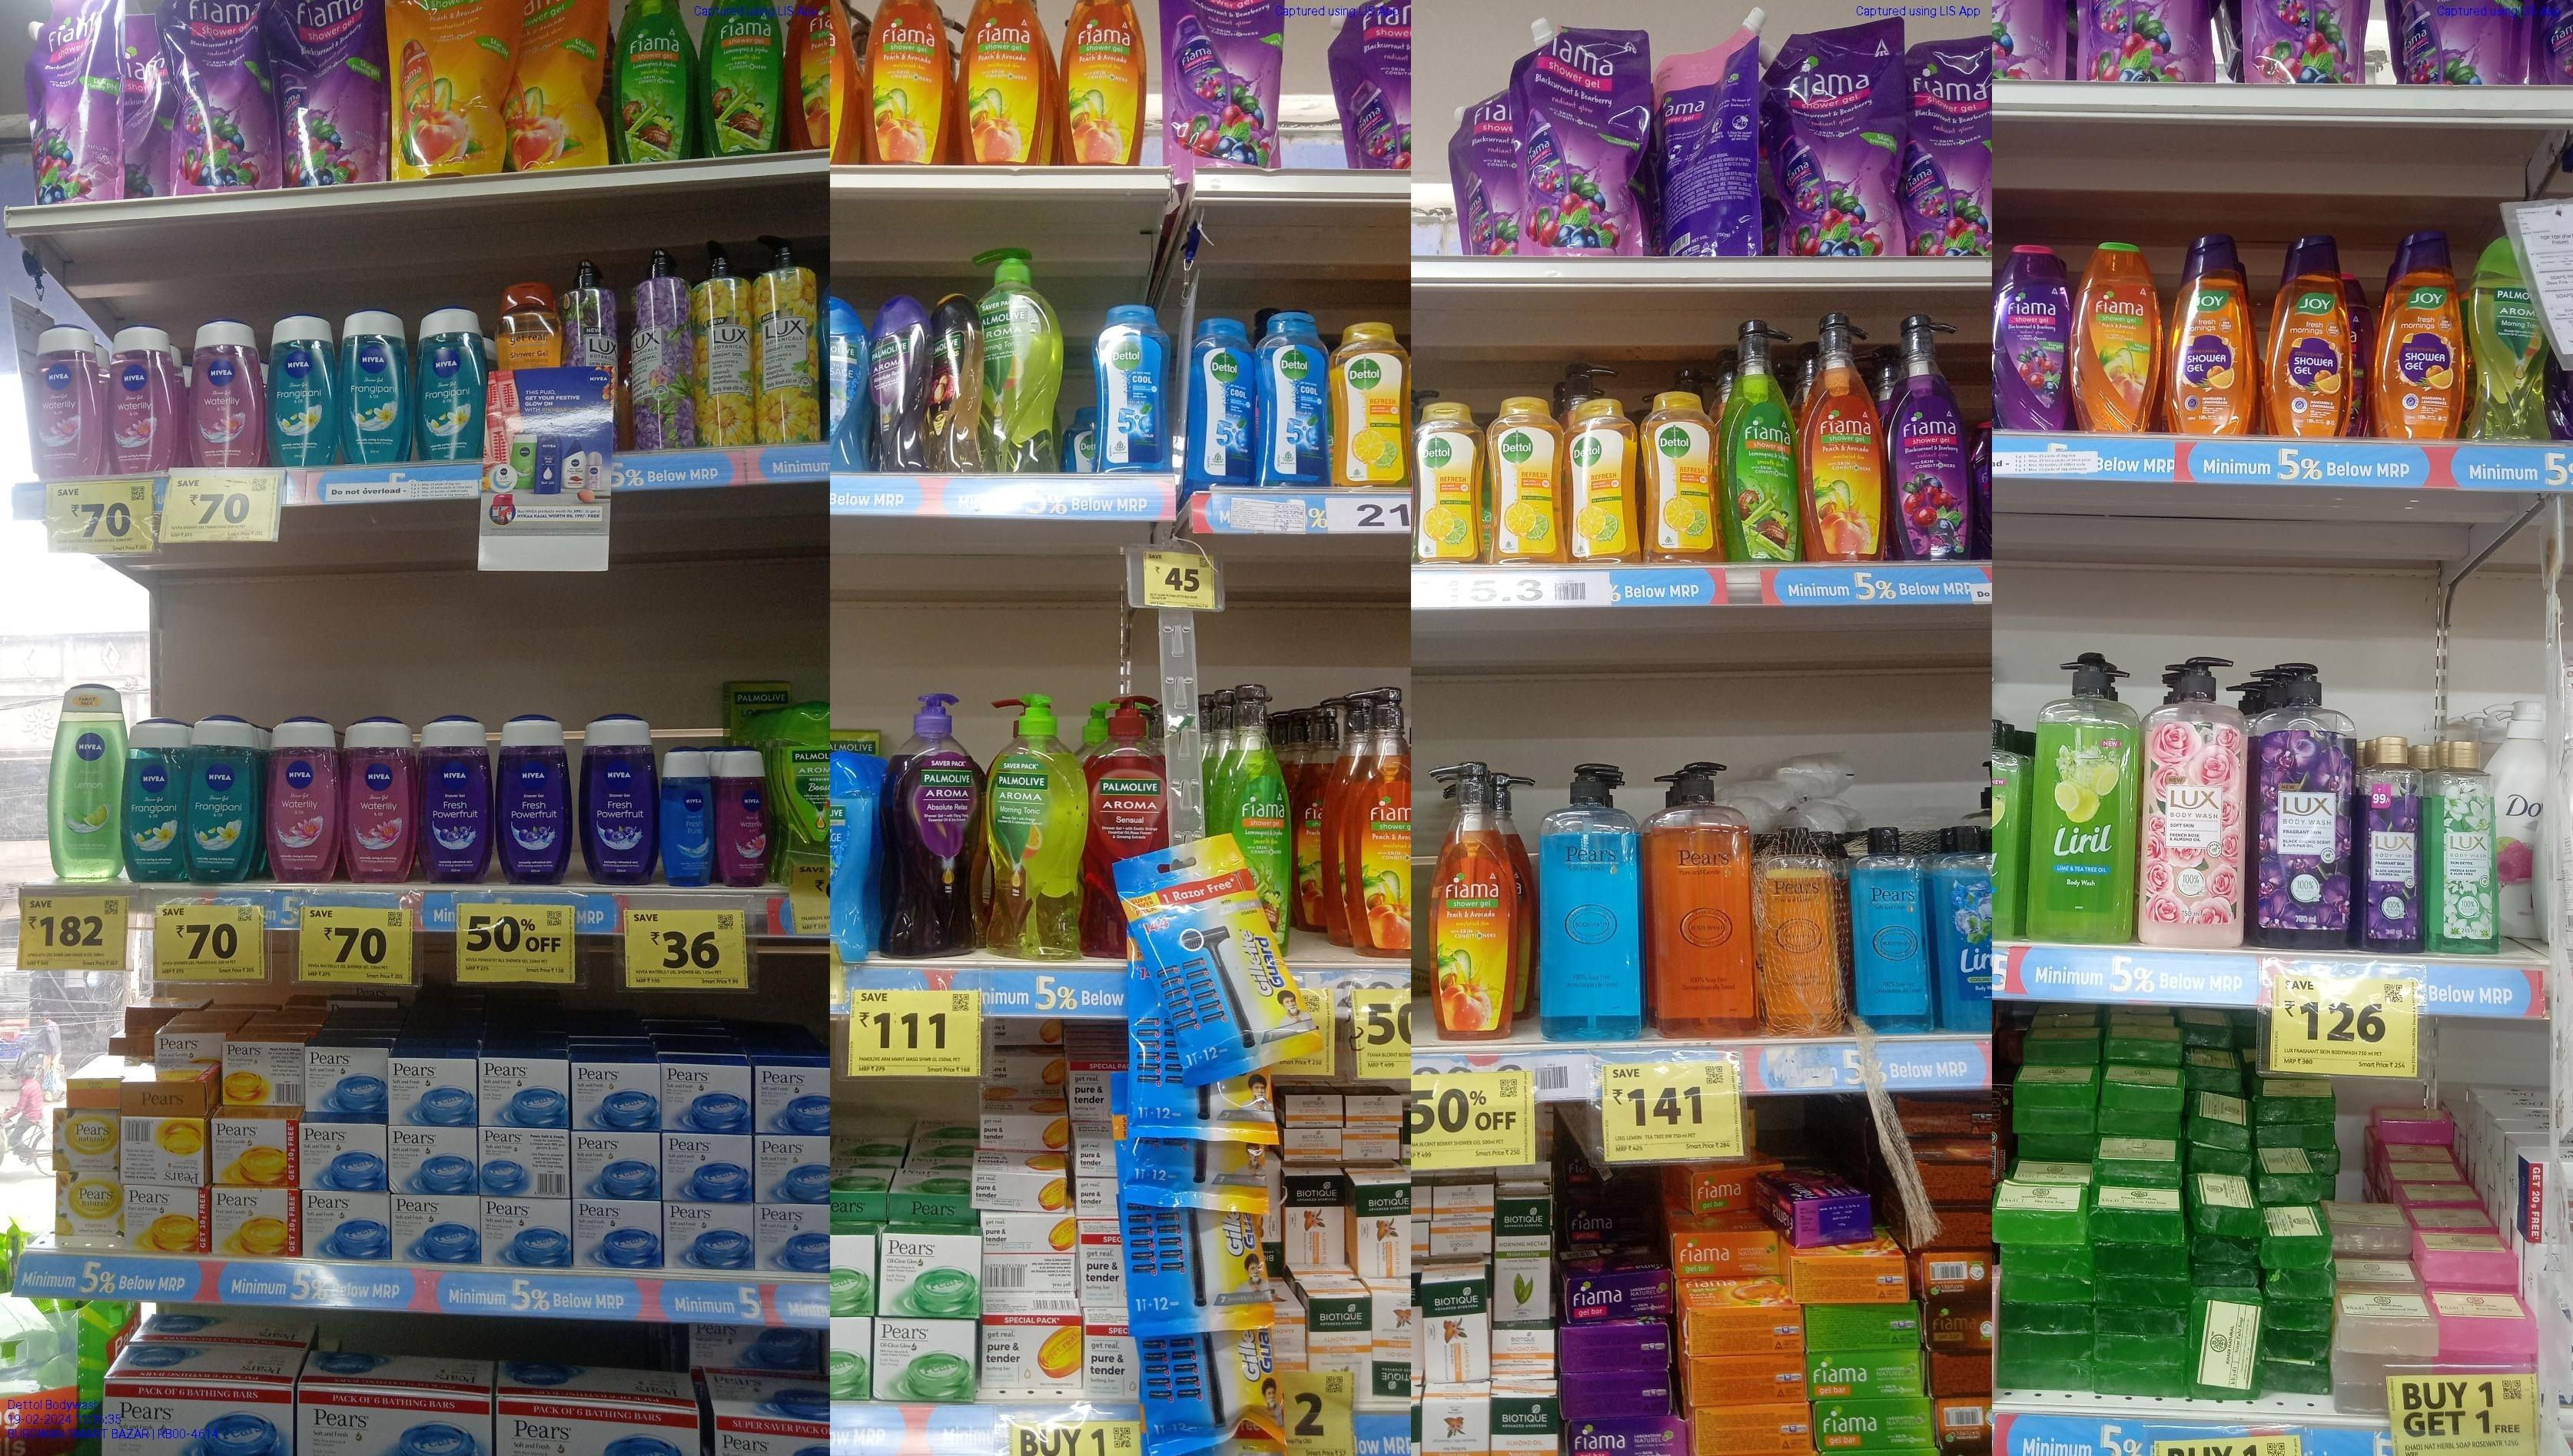Dettol_Bodywash_Cool: (1094, 300, 1177, 468), (1256, 311, 1331, 486), (1196, 320, 1251, 484)
Dettol_Bodywash_Refresh: (1642, 394, 1719, 562), (1336, 318, 1408, 486), (1495, 392, 1566, 558), (1573, 391, 1638, 558), (1416, 413, 1488, 560)
Fiama_Shower_Gel_Peach_and_Avocado_250ML: (2068, 239, 2167, 428)
Joy_Shower_Gel_Mandarin_and_Lemongrass_250ML: (2380, 228, 2472, 444), (2273, 226, 2347, 440), (2177, 230, 2250, 442)
Lux_Black_Orchid_Scent_and_Juniper_Oil_Body_Wash_245ML: (2357, 732, 2432, 952)
Lux_Body_Wash_Skin_Detox_Freesia_Scent_and_Alove_Vera_245ML: (2433, 737, 2499, 952)
Nivea_Shower_Gel_Frangipani_and_Oil_250ML: (265, 313, 341, 468), (187, 716, 258, 880), (410, 309, 481, 458), (125, 716, 187, 882), (343, 311, 408, 463)
Nivea_Shower_Gel_Fresh_Powerfruit_250ML: (578, 710, 657, 882), (495, 719, 571, 885), (417, 717, 490, 882)
Nivea_Shower_Gel_Lemon_and_Oil_250ML: (49, 682, 125, 882)
Nivea_Shower_Gel_Waterlily_and_Oil_250ML: (265, 716, 343, 882), (34, 320, 104, 479), (346, 716, 412, 883), (108, 325, 177, 474), (189, 323, 262, 463), (714, 751, 770, 882)
